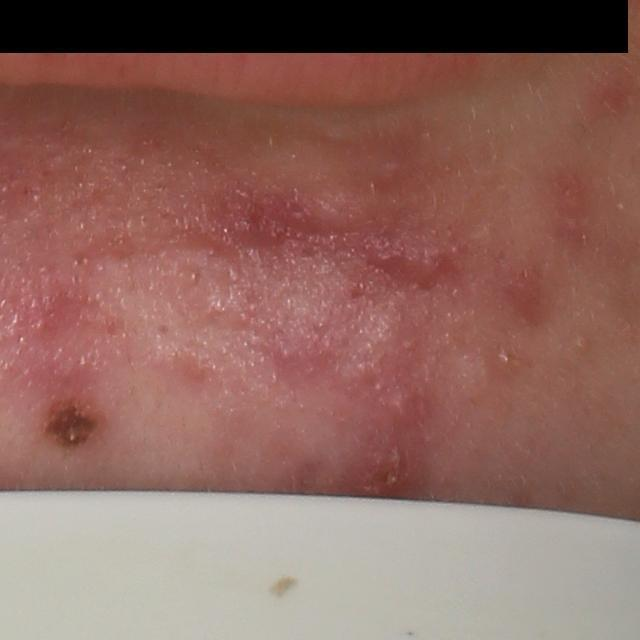hypertrophic_scar: (240, 256, 426, 389), (226, 134, 406, 226)
papule: (352, 431, 422, 499), (379, 387, 429, 439), (555, 175, 584, 245), (411, 244, 448, 288), (509, 270, 538, 320)
